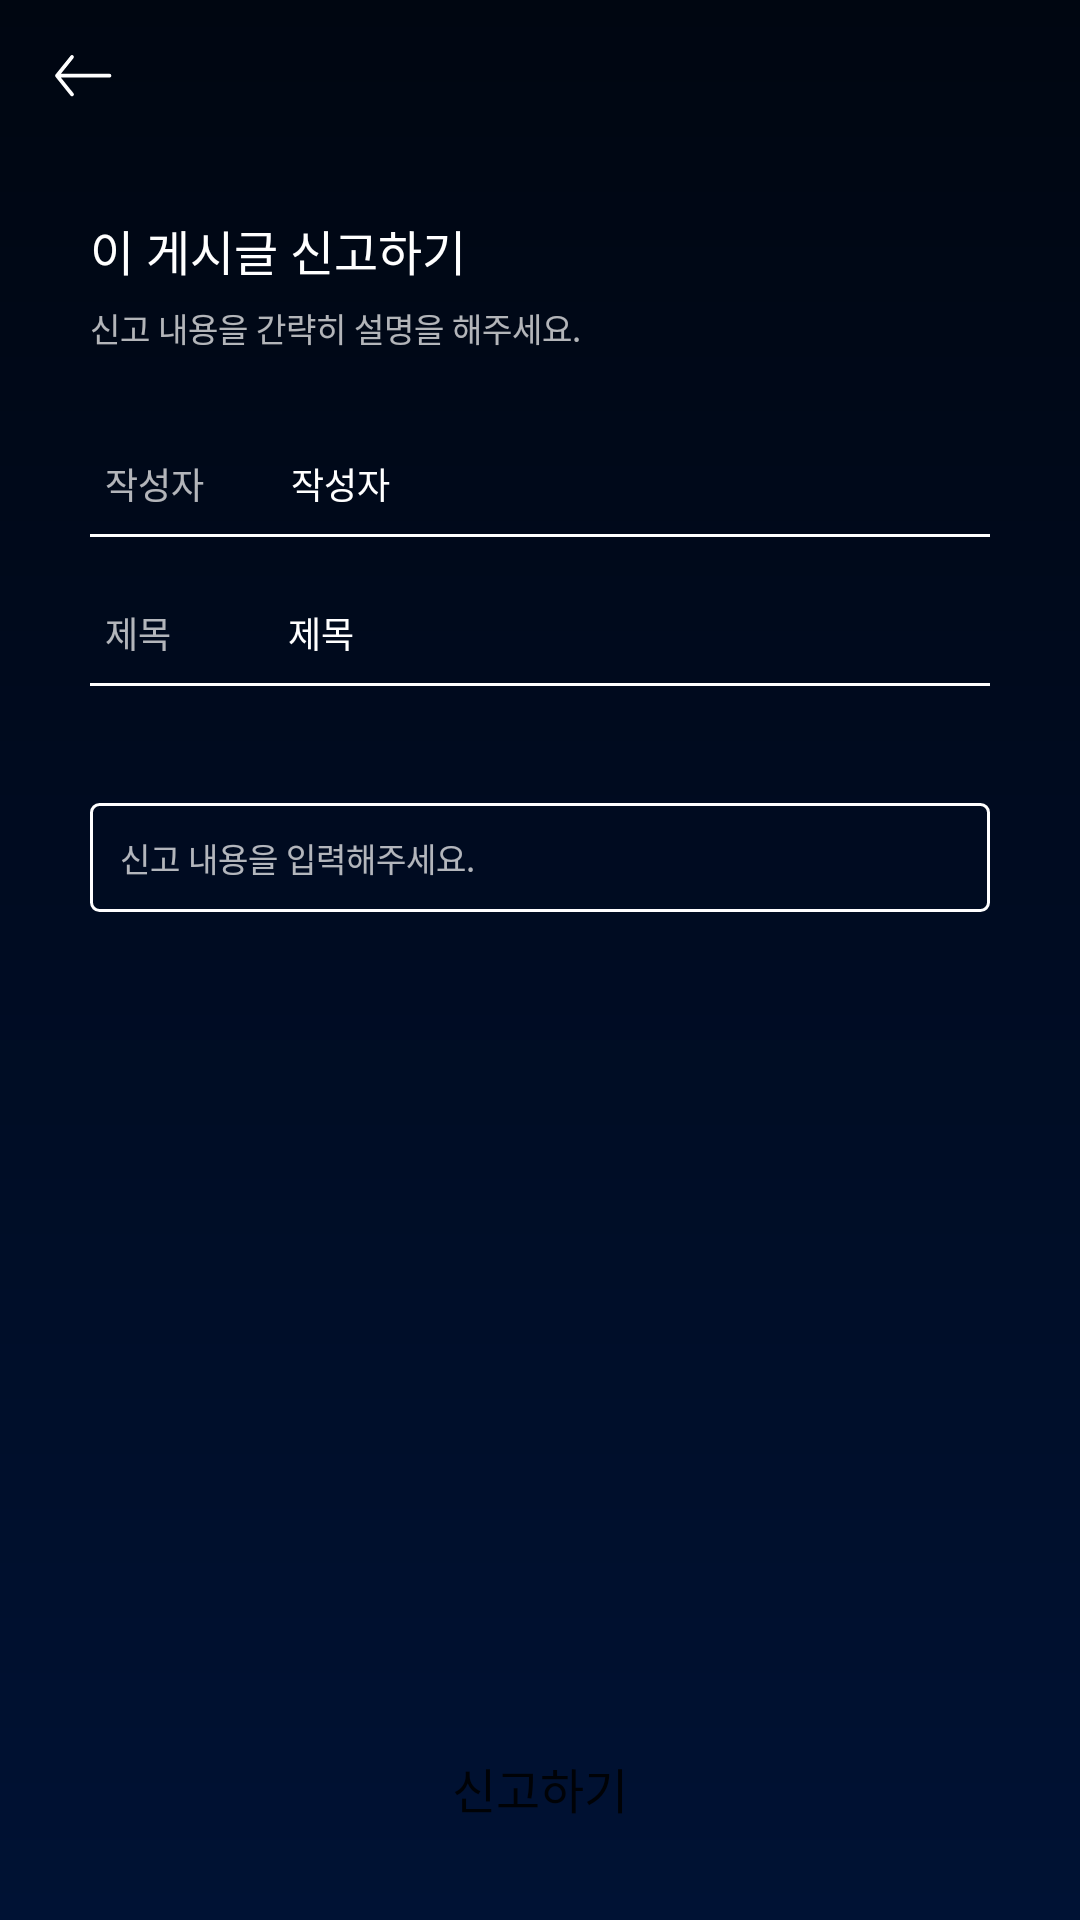

Locate icon controls on the screen. Image size 1080px×1920px, boxes as (x1,y1,x2,y2).
back: (55,55,112,97)
